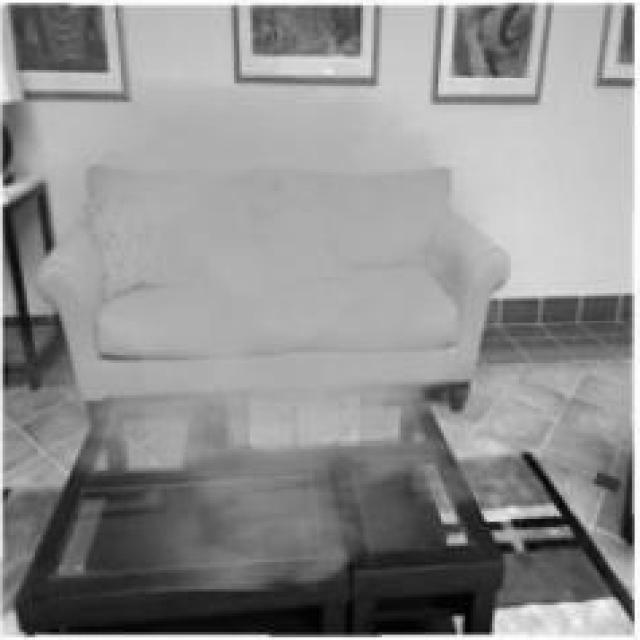fire: (9, 54, 574, 592)
